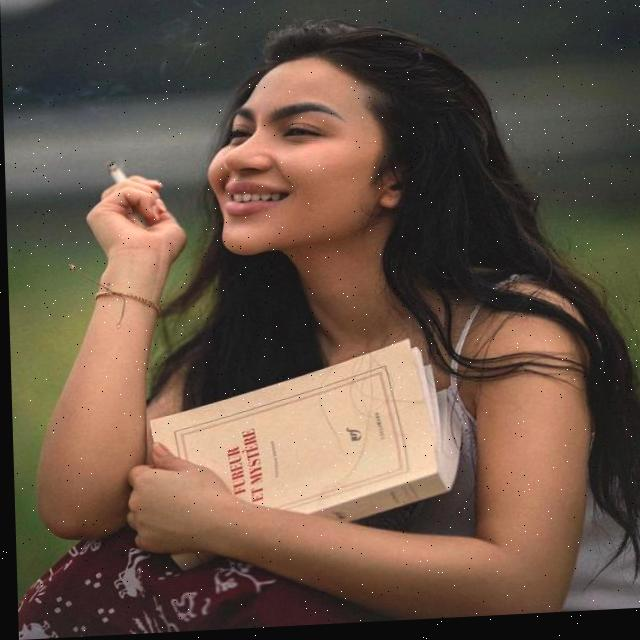cigarette: (107, 161, 123, 184)
